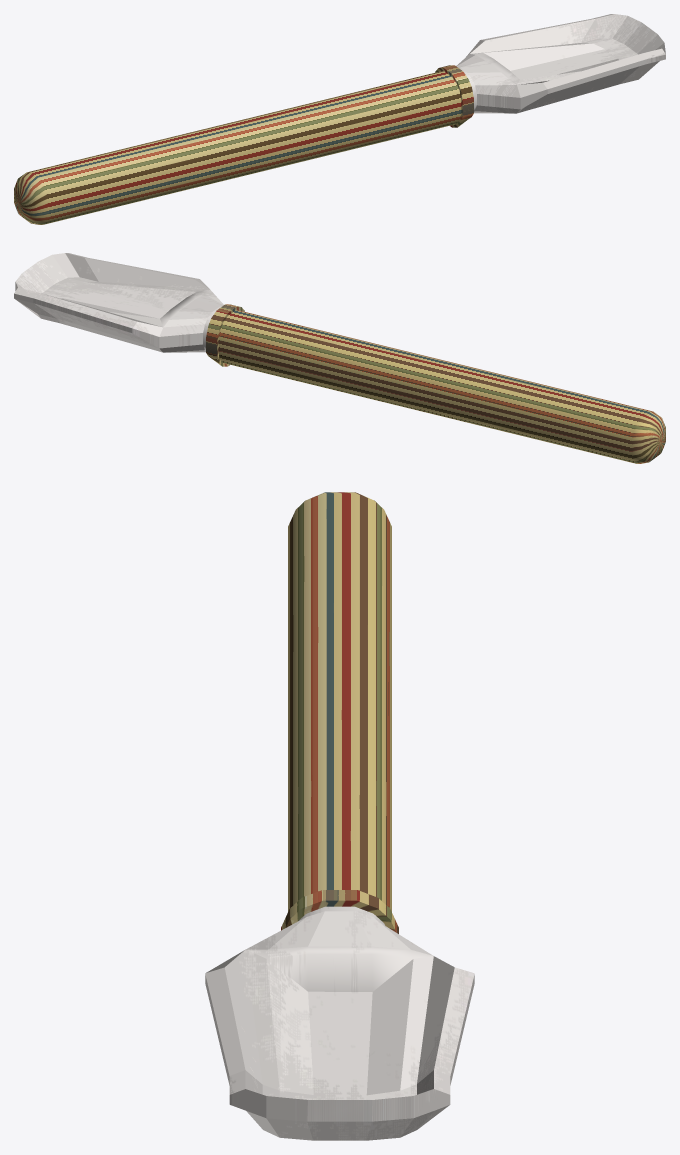
Rendered from big spoon.fbx.
The picture shows the model from 3 angles, top to bottom: view 1: azimuth 30°, elevation 25°; view 2: azimuth 150°, elevation 25°; view 3: azimuth 270°, elevation 25°; orthographic projection. The views are drawn at different scales.
Visible parts, largest first — view 1: pCube9; view 2: pCube9; view 3: pCube9.
Boxes of the visible parts, x1=… form: pCube9: x1=14, y1=14, x2=665, y2=224; pCube9: x1=14, y1=253, x2=665, y2=463; pCube9: x1=205, y1=492, x2=474, y2=1140.
Size of the model in its own units: 2.8 by 0.2272 by 0.519.
